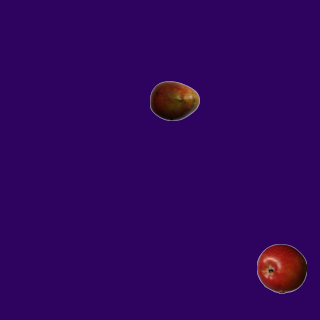Apple Braeburn: (256, 243, 306, 293)
Mango Red: (149, 75, 199, 125)
